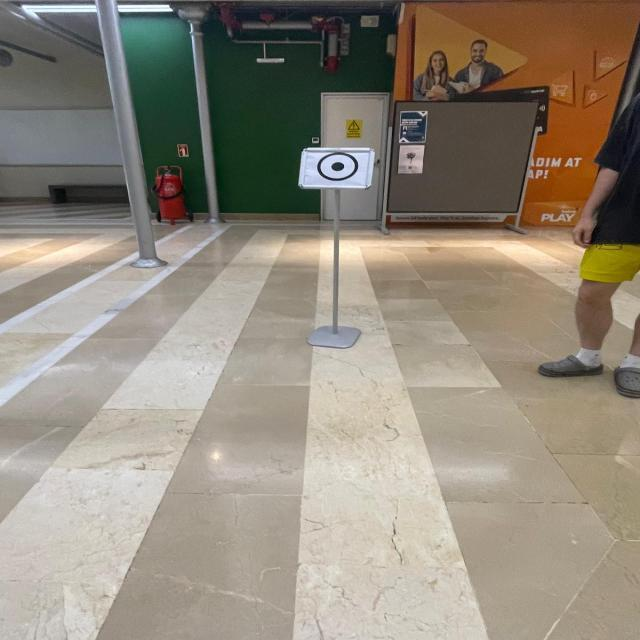Target: (289, 136, 383, 198)
inner: (325, 159, 349, 174)
